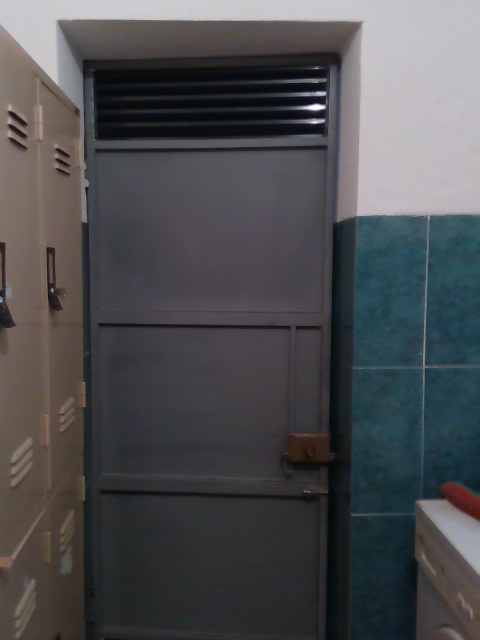closed: (58, 20, 363, 639)
